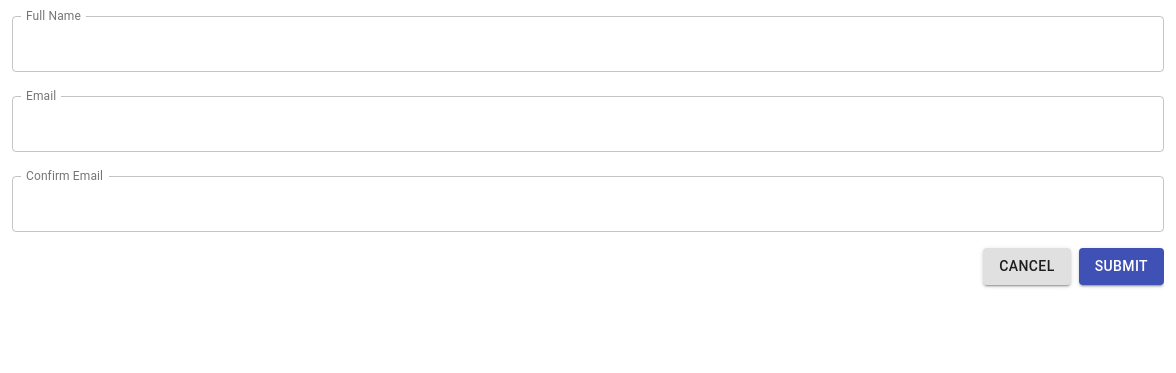
Scenario: testing correct validation messages are shown and submit is not called › check all 'is required' messages show
The image size is (1176, 373).
Check: the text "This is a required field" is not shown
Click the button "Submit": (1121, 266) left=1079, top=248, right=1164, bottom=284
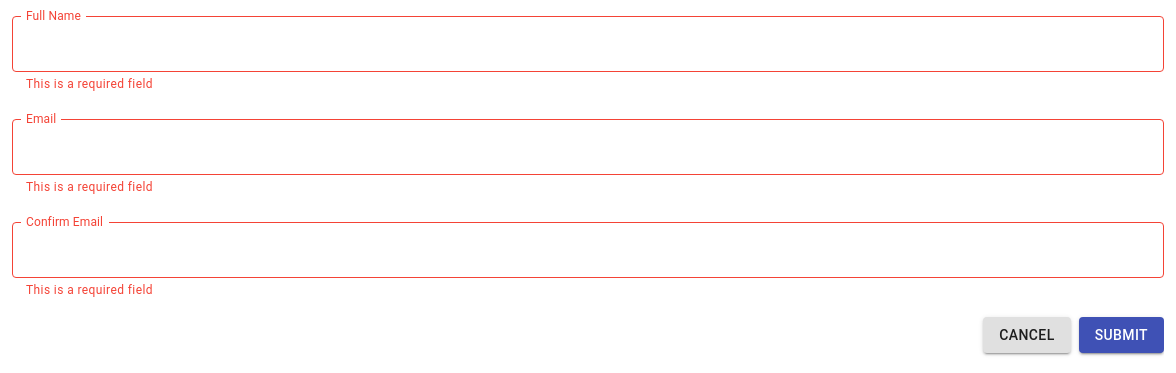
Check: the text "This is a required field" is shown 3 times, box left=26, top=77, right=153, bottom=91; left=26, top=180, right=153, bottom=194; left=26, top=283, right=153, bottom=297
